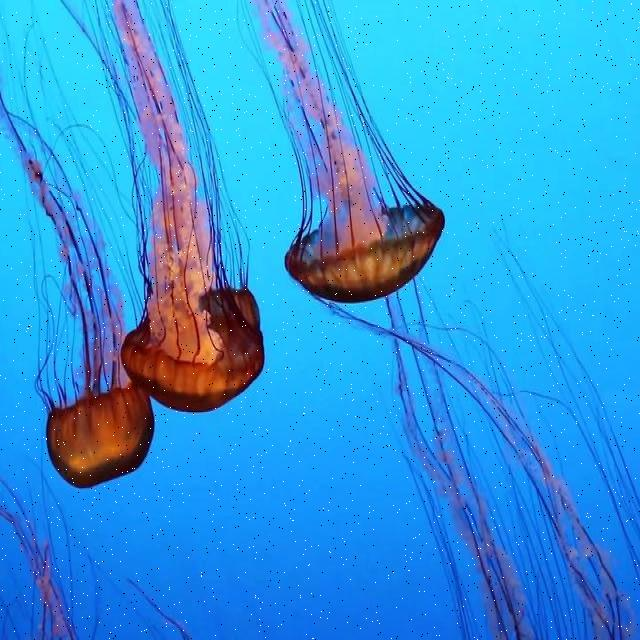reefs: (61, 0, 265, 410), (0, 53, 155, 489), (238, 0, 445, 304)
